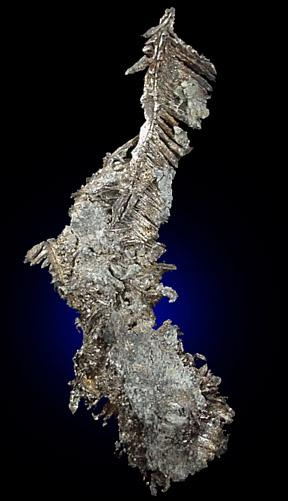silver: (24, 8, 236, 496)
